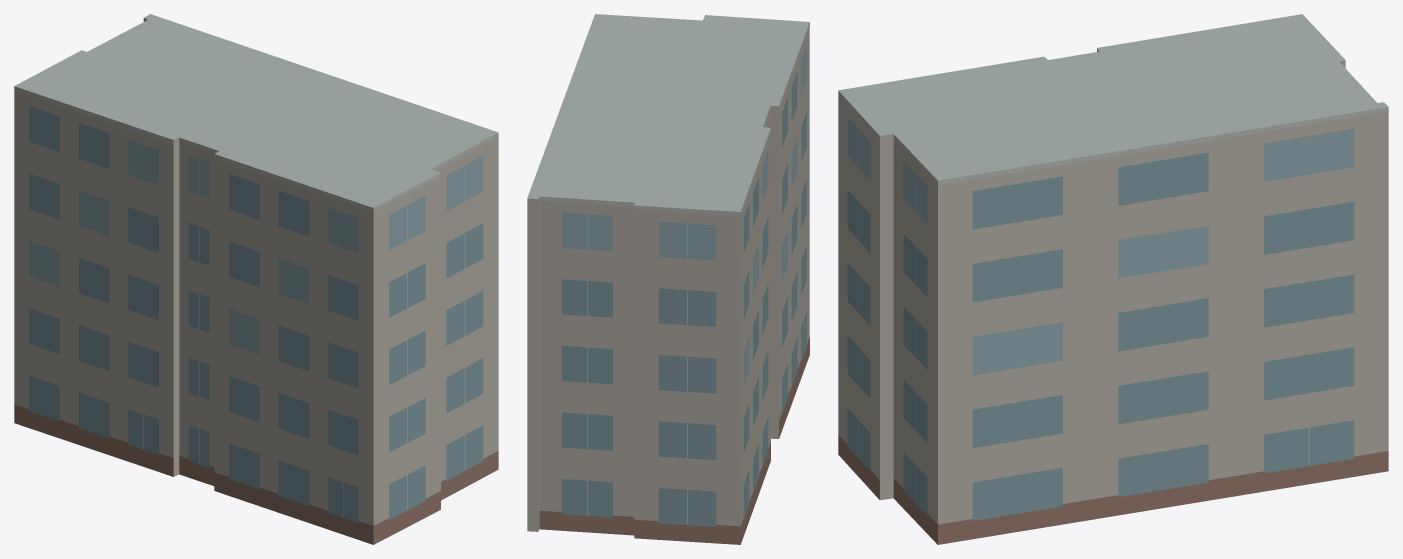
File: survey-upis-32863553.glb
The picture shows the model from 3 angles, left to right: view 1: azimuth 30°, elevation 25°; view 2: azimuth 150°, elevation 25°; view 3: azimuth 270°, elevation 25°; orthographic projection. The views are drawn at different scales.
Visible parts, largest first — view 1: survey-upis-32863553.tmp; view 2: survey-upis-32863553.tmp; view 3: survey-upis-32863553.tmp.
Boxes of the visible parts, x1,y1,x2,y2 form: survey-upis-32863553.tmp: [14, 14, 498, 544]; survey-upis-32863553.tmp: [527, 14, 809, 544]; survey-upis-32863553.tmp: [838, 14, 1388, 544].
Size of the model in its own units: 18.85 by 19.2 by 26.3.
